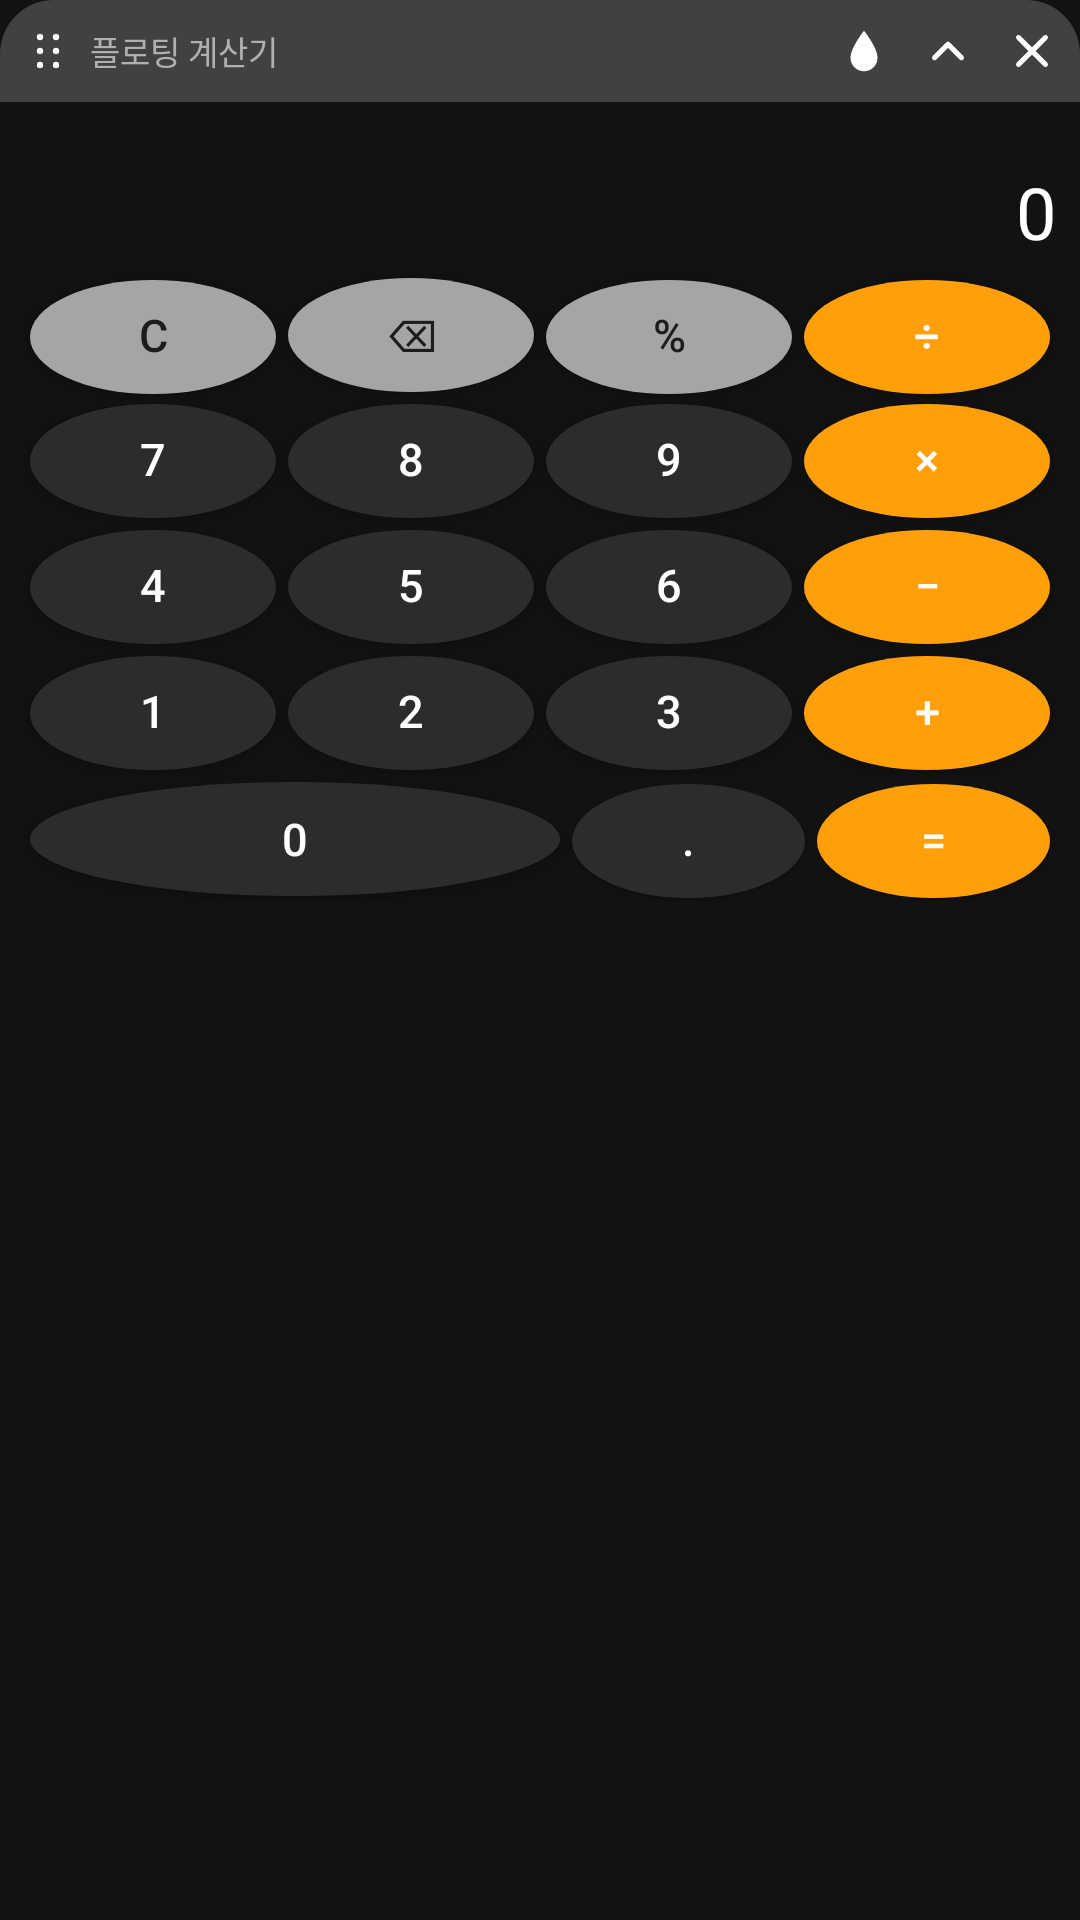

Where icons sit on this 1080×1920 app screen, as (x1, y1, x2, y2):
닫기: (1016, 35, 1048, 67)
이동 핸들: (37, 34, 59, 68)
접기/펼치기: (932, 41, 964, 61)
투명도 조절: (850, 31, 878, 72)
